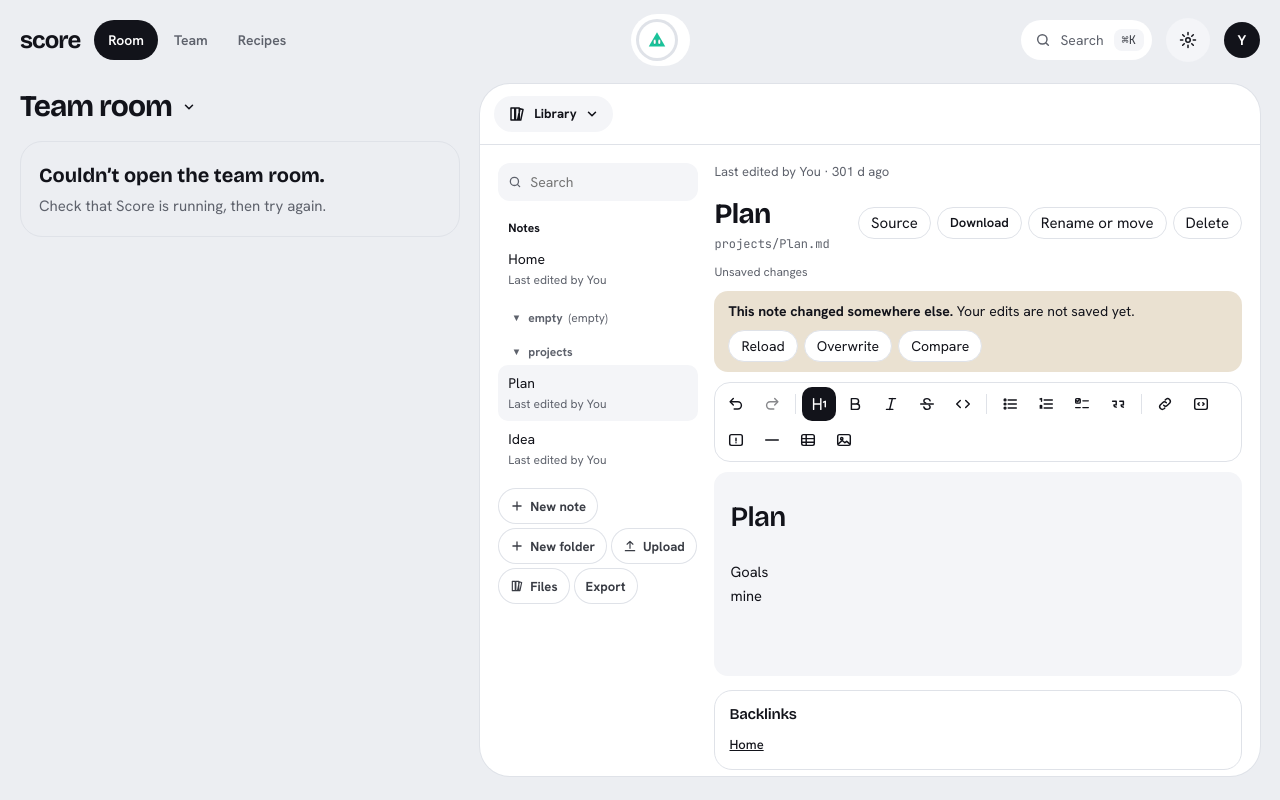
Test case: Reload in the conflict banner drops my edits and loads the server text
expect the field named "Contents of projects/Plan.md" is shown: met, box [730,500,786,605]
Click the button "Reload" at point(763, 346), box [728,330,798,362]
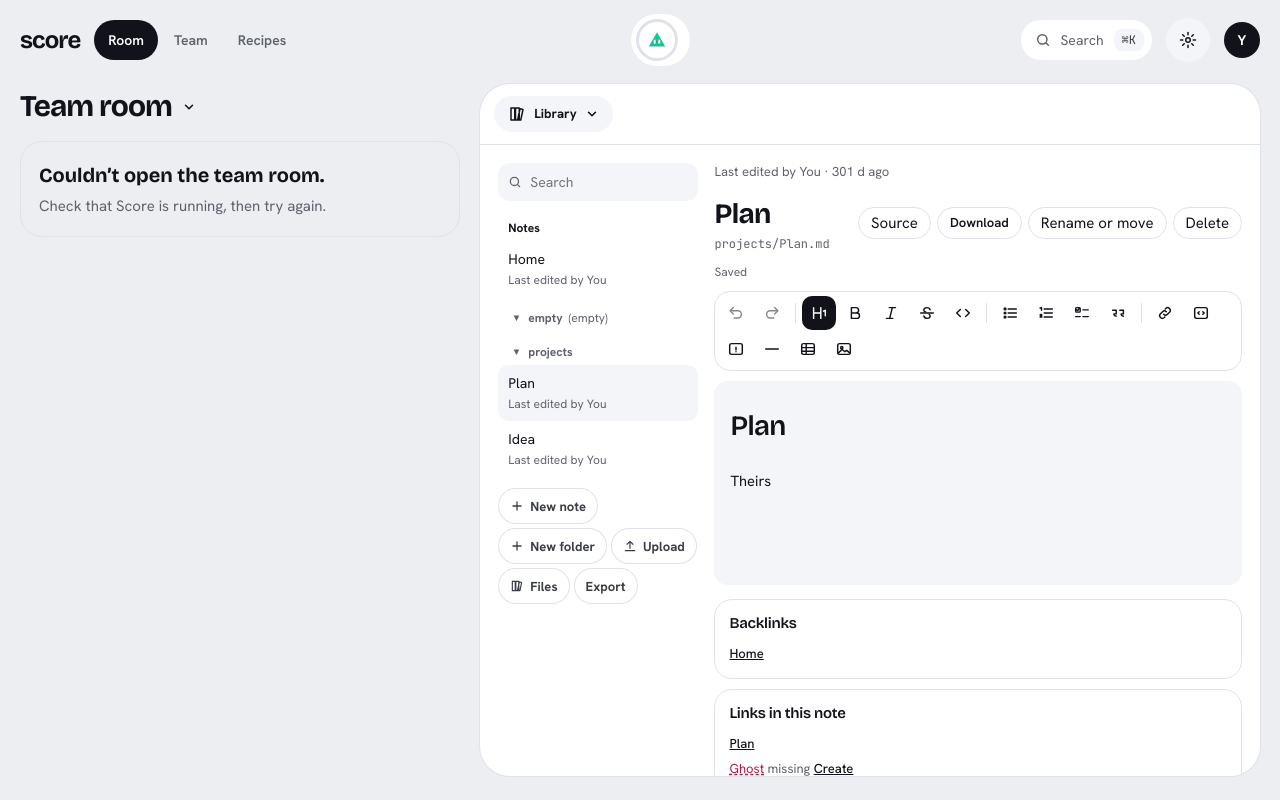
expect the message with test id "conflict" is gone: met
